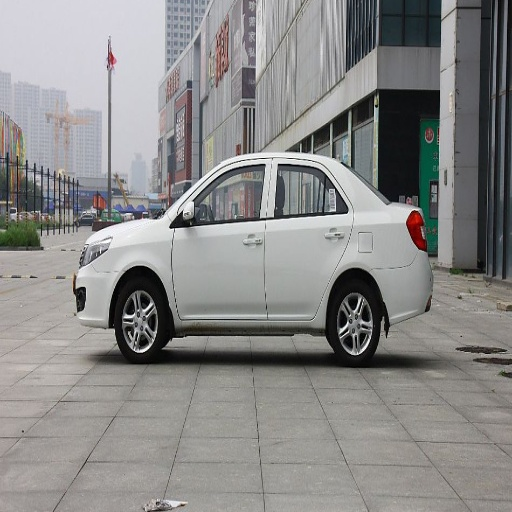back_left_door: (263, 160, 352, 316)
front_left_door: (172, 161, 270, 320)
